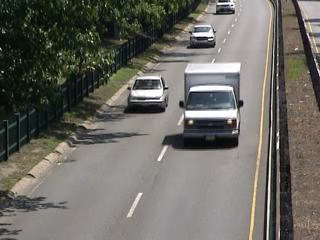car: (128, 75, 172, 113), (188, 21, 218, 49), (213, 1, 240, 17)
truck: (179, 61, 248, 147)
